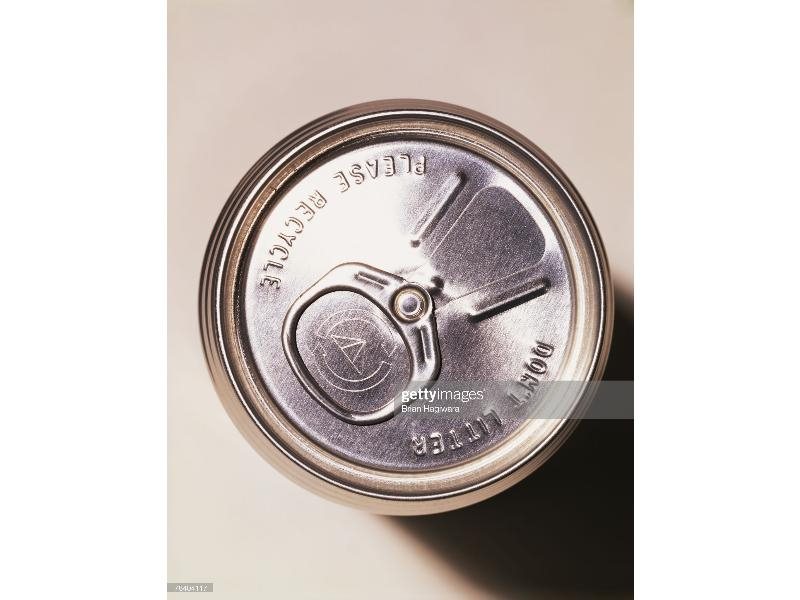can: (192, 104, 611, 521)
